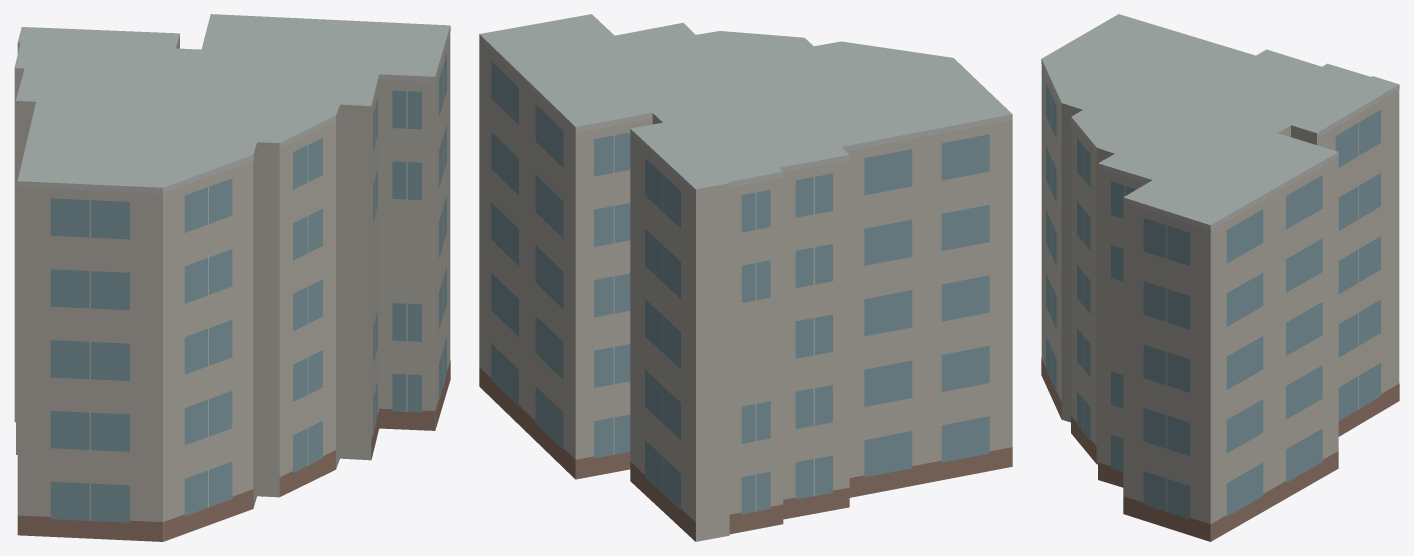
Rendered from survey-upis-32962622.glb.
The picture shows the model from 3 angles, left to right: view 1: azimuth 30°, elevation 25°; view 2: azimuth 150°, elevation 25°; view 3: azimuth 270°, elevation 25°; orthographic projection. The views are drawn at different scales.
Visible parts, largest first — view 1: survey-upis-32962622.tmp; view 2: survey-upis-32962622.tmp; view 3: survey-upis-32962622.tmp.
Boxes of the visible parts, box(x1,y1,x2,y2) form: survey-upis-32962622.tmp: box(14, 14, 450, 541); survey-upis-32962622.tmp: box(479, 14, 1012, 541); survey-upis-32962622.tmp: box(1041, 14, 1399, 541).
Bounding box in the file's own units: 21.83 × 15.25 × 15.64.
